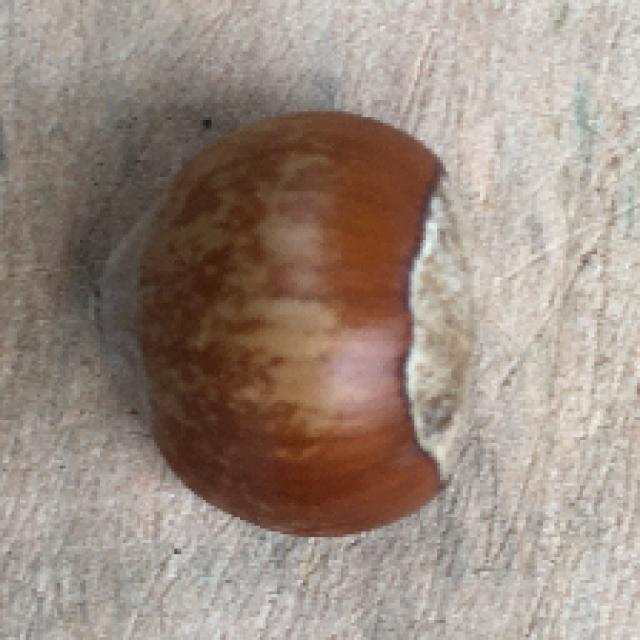qualityHazelnut: (97, 106, 484, 540)
